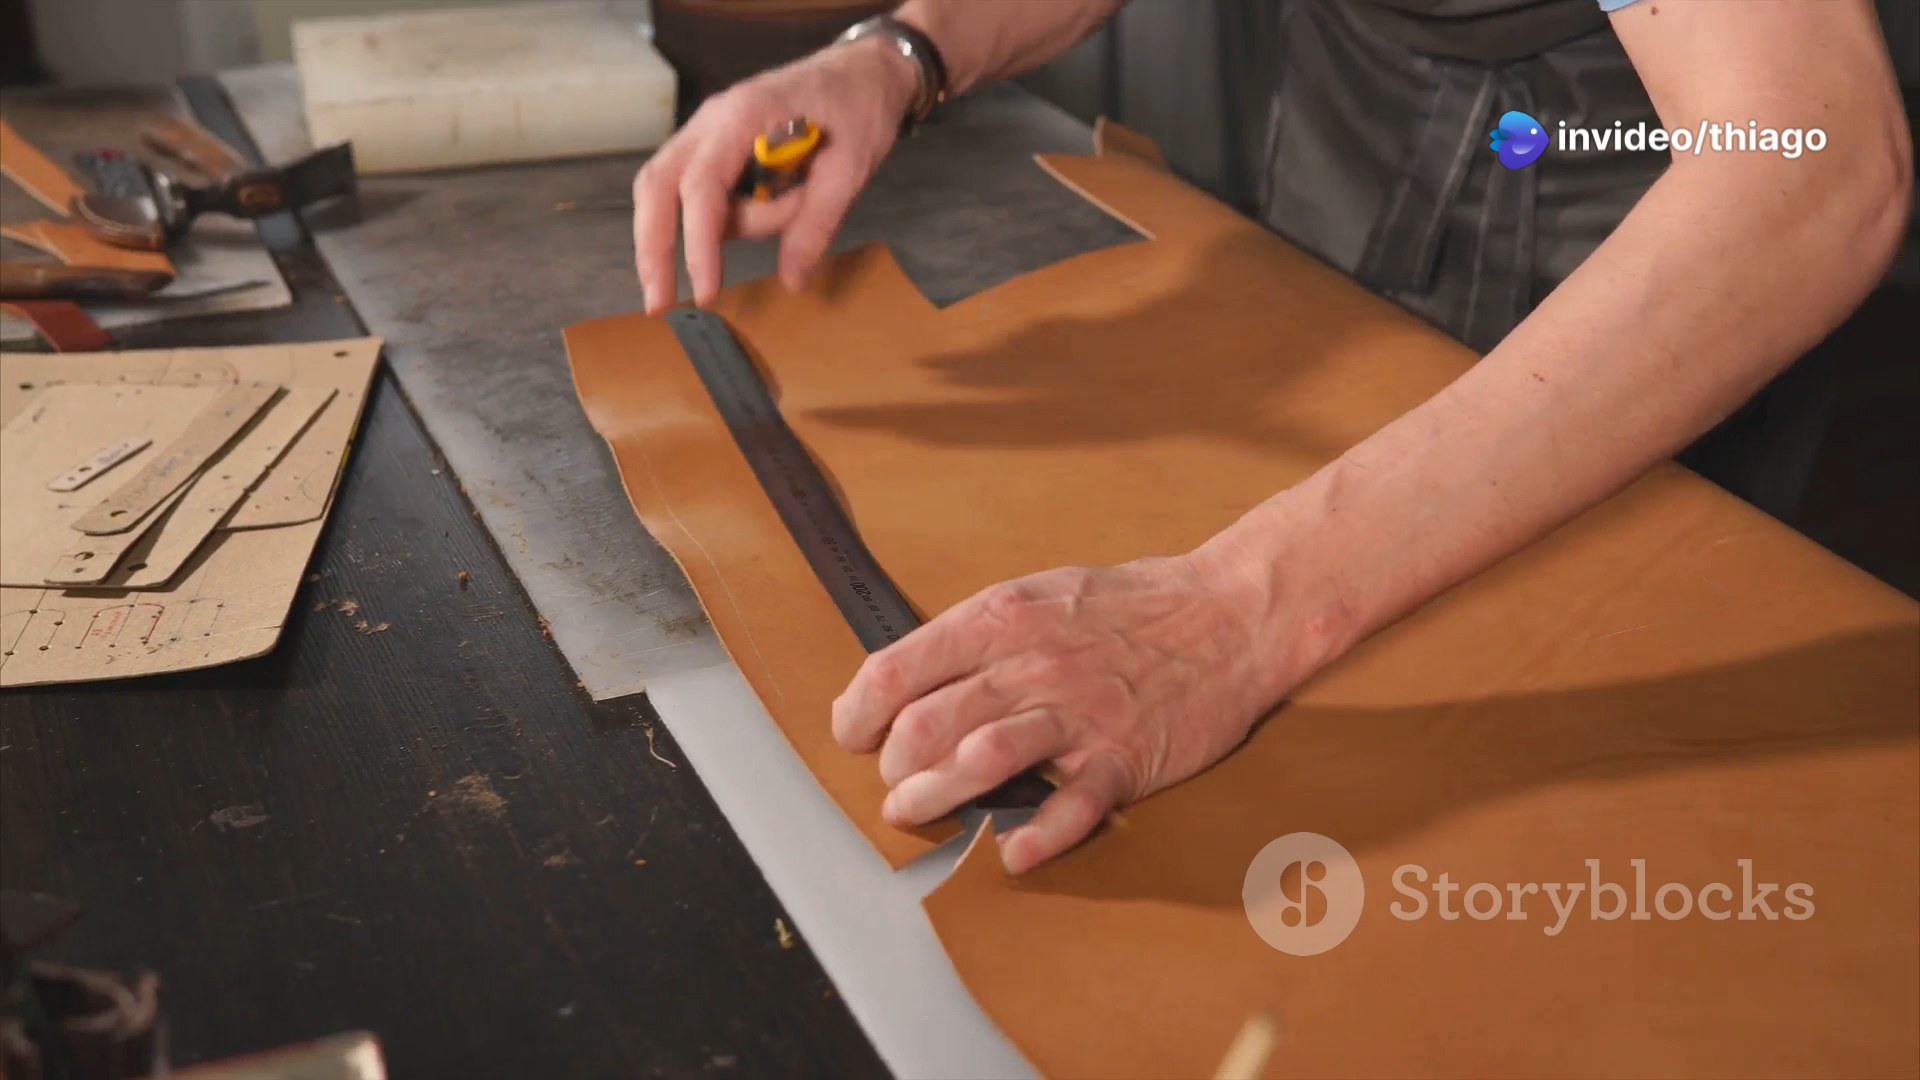cortante: (765, 108, 810, 150)
